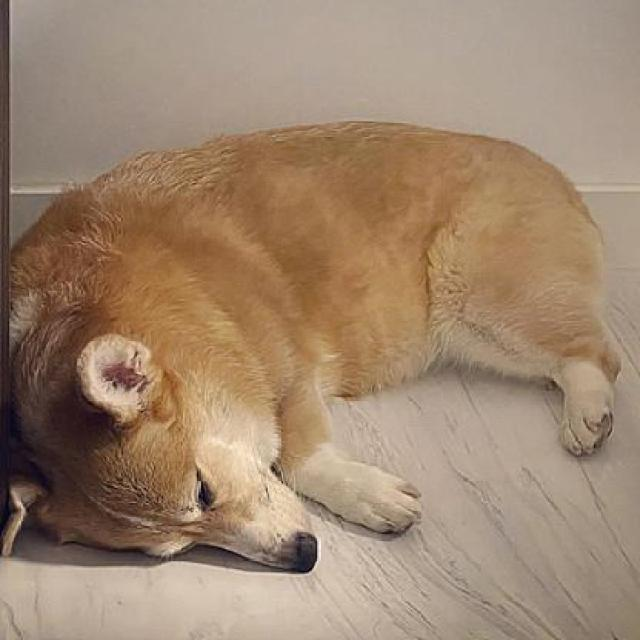Dog: (9, 115, 626, 572)
